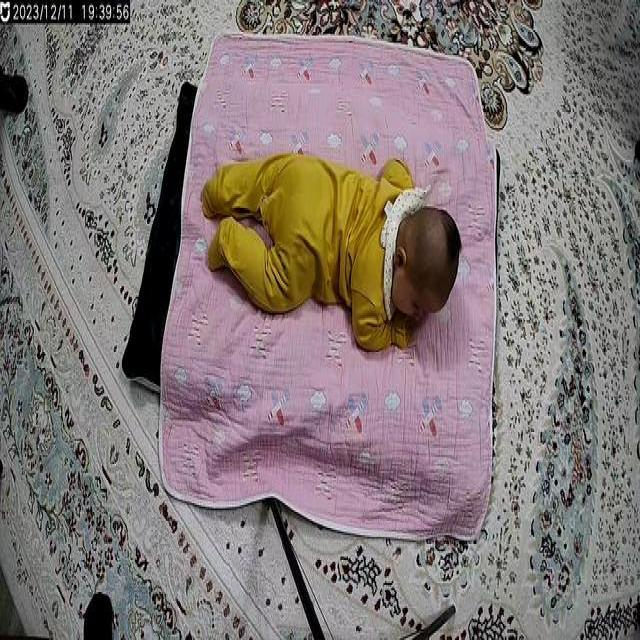baby: (197, 132, 466, 373)
